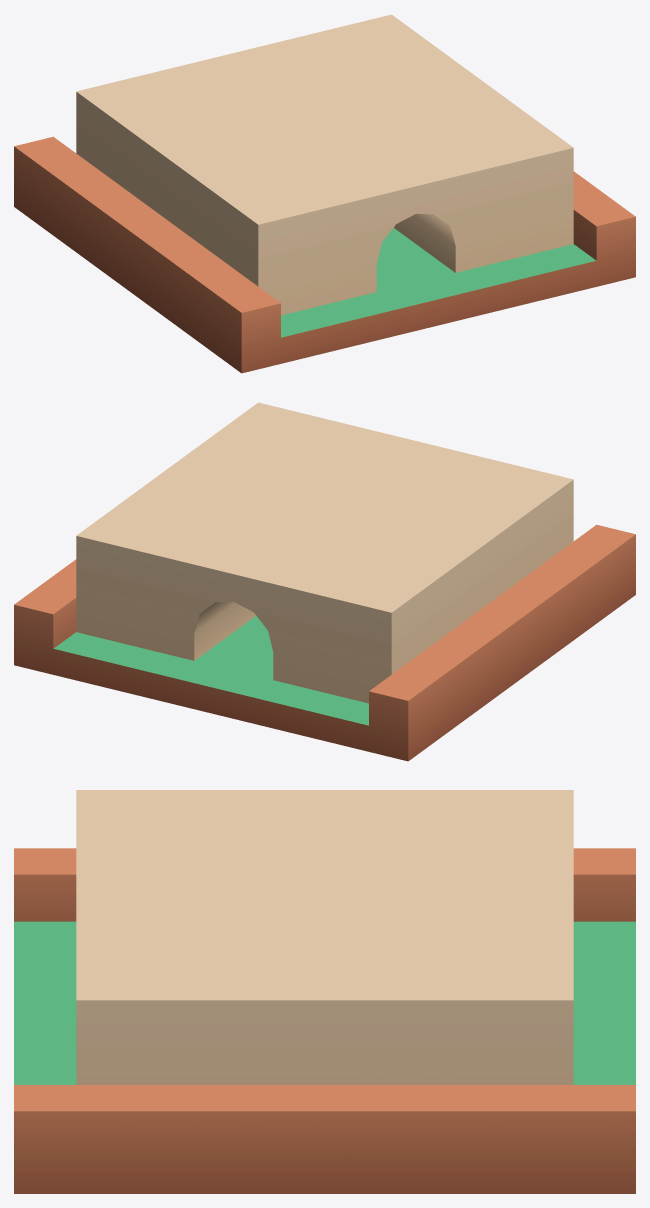
Rendered from tunnel-narrow.glb.
3 renders of one model, top to bottom at view 1: azimuth 30°, elevation 25°; view 2: azimuth 150°, elevation 25°; view 3: azimuth 270°, elevation 25°, orthographic. The views are drawn at different scales.
Parts seen in each view (by area): view 1: tunnel-narrow; view 2: tunnel-narrow; view 3: tunnel-narrow.
Boxes of the visible parts, left/top/right/bottom form: tunnel-narrow: left=14, top=14, right=635, bottom=373; tunnel-narrow: left=14, top=402, right=635, bottom=761; tunnel-narrow: left=14, top=790, right=635, bottom=1193.
Bounding box in the file's own units: 0.9999 × 0.2966 × 0.9999.
1 material, 1 textured.
